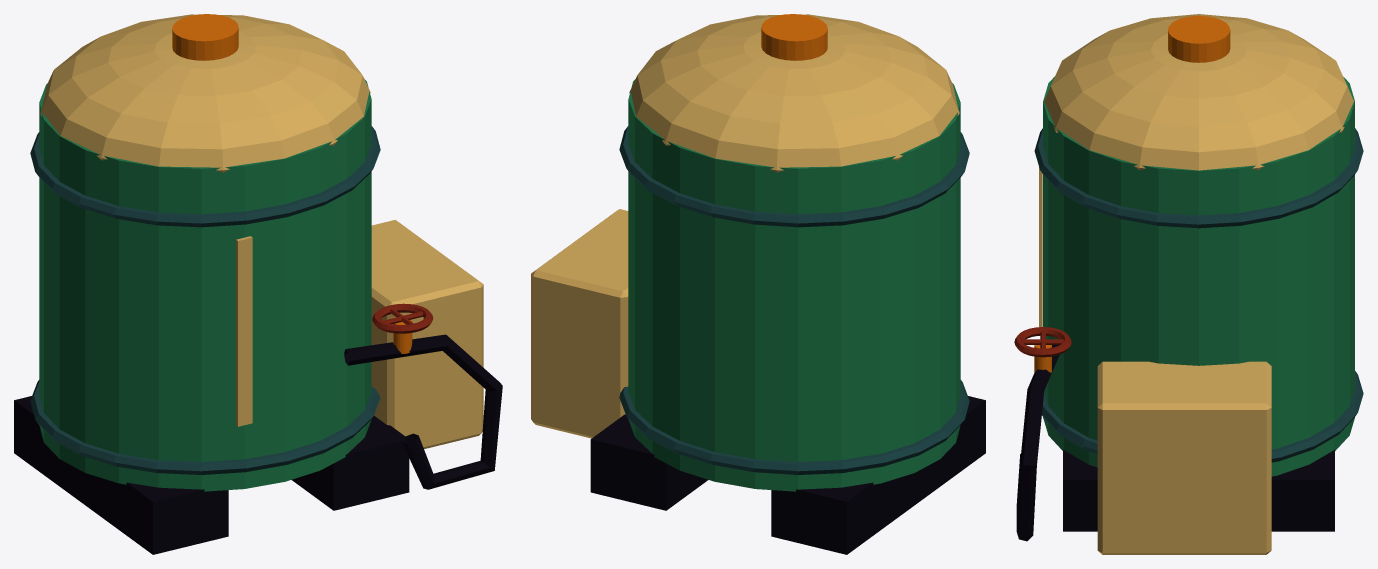
Rendered from irrigation_tank_r12.fbx.
3 views of the same model, side by side, from view 1: azimuth 30°, elevation 25°; view 2: azimuth 150°, elevation 25°; view 3: azimuth 270°, elevation 25° (orthographic). The views are drawn at different scales.
Parts seen in each view (by area): view 1: Part_0, Part_1, Part_2, Part_-1; view 2: Part_0, Part_1, Part_2, Part_-1; view 3: Part_0, Part_2, Part_1, Part_-1.
Boxes of the visible parts, x1,y1,x2,y2 form: Part_0: (30,37,502,491); Part_1: (72,14,338,123); Part_2: (346,220,483,454); Part_-1: (14,380,409,554); Part_0: (590,37,969,554); Part_1: (661,14,927,123); Part_2: (531,209,653,454); Part_-1: (619,380,985,554); Part_0: (1014,31,1363,541); Part_2: (1063,162,1334,554); Part_1: (1073,14,1325,126); Part_-1: (1056,423,1315,460).
Bounding box in the file's own units: 3.52 × 3.92 × 2.84.
